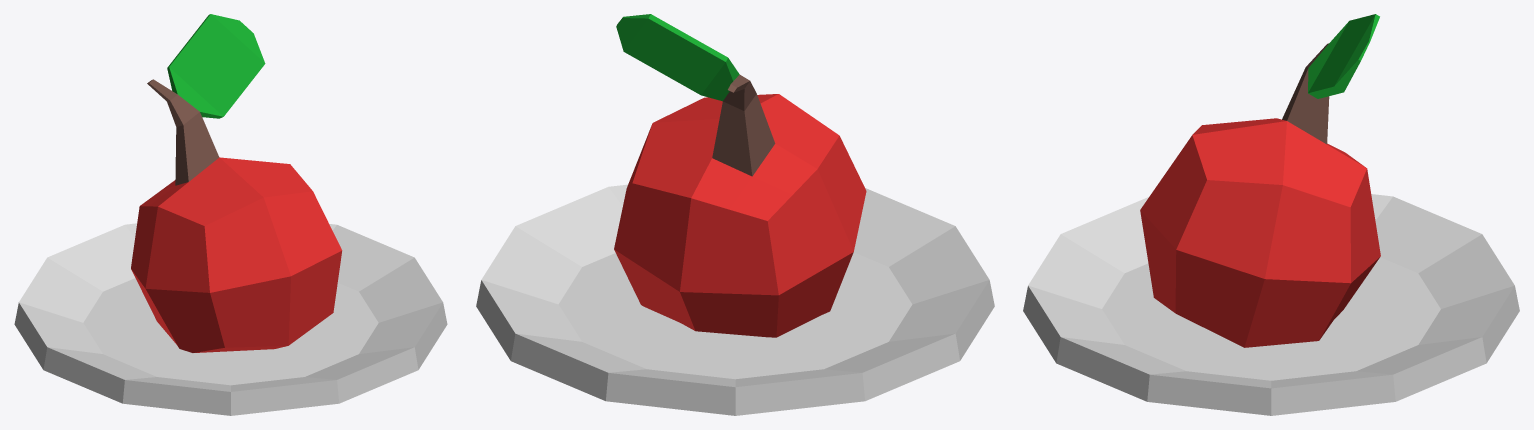
File: plate.fbx
The picture shows the model from 3 angles, left to right: view 1: azimuth 30°, elevation 25°; view 2: azimuth 150°, elevation 25°; view 3: azimuth 270°, elevation 25°; orthographic projection. The views are drawn at different scales.
Parts seen in each view (by area): view 1: Cylinder; view 2: Cylinder; view 3: Cylinder.
Boxes of the visible parts, x1,y1,x2,y2 form: Cylinder: (14,14,447,415); Cylinder: (476,14,994,415); Cylinder: (1023,14,1519,415).
Bounding box in the file's own units: 309 × 230 × 309.
